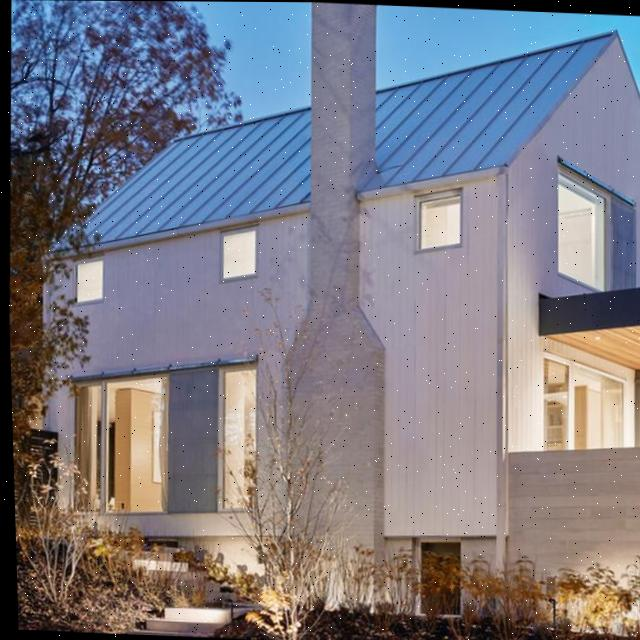building: (40, 5, 640, 636)
